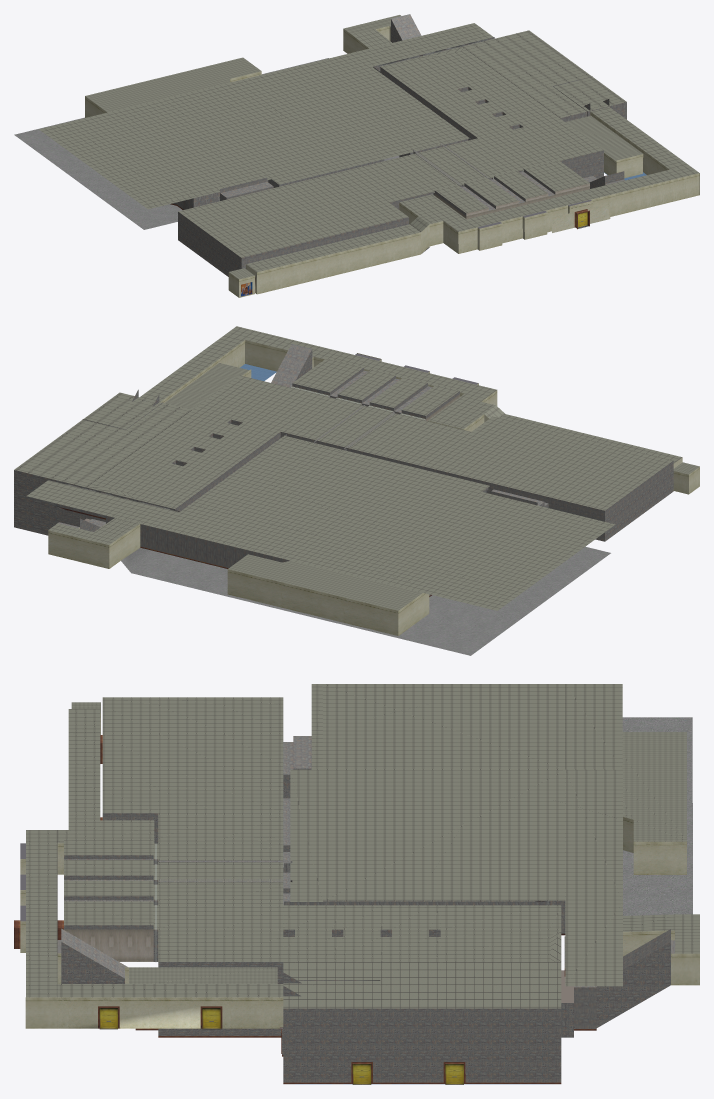
3 views of the same model, one above another, from view 1: azimuth 30°, elevation 25°; view 2: azimuth 150°, elevation 25°; view 3: azimuth 270°, elevation 25° (orthographic). The views are drawn at different scales.
Parts seen in each view (by area): view 1: pizza; view 2: pizza; view 3: pizza.
Boxes of the visible parts, box(x1,y1,x2,y2) form: pizza: box(14, 14, 699, 297); pizza: box(14, 326, 699, 655); pizza: box(14, 684, 699, 1084).
Bounding box in the file's own units: 83.29 × 10.29 × 74.08.
